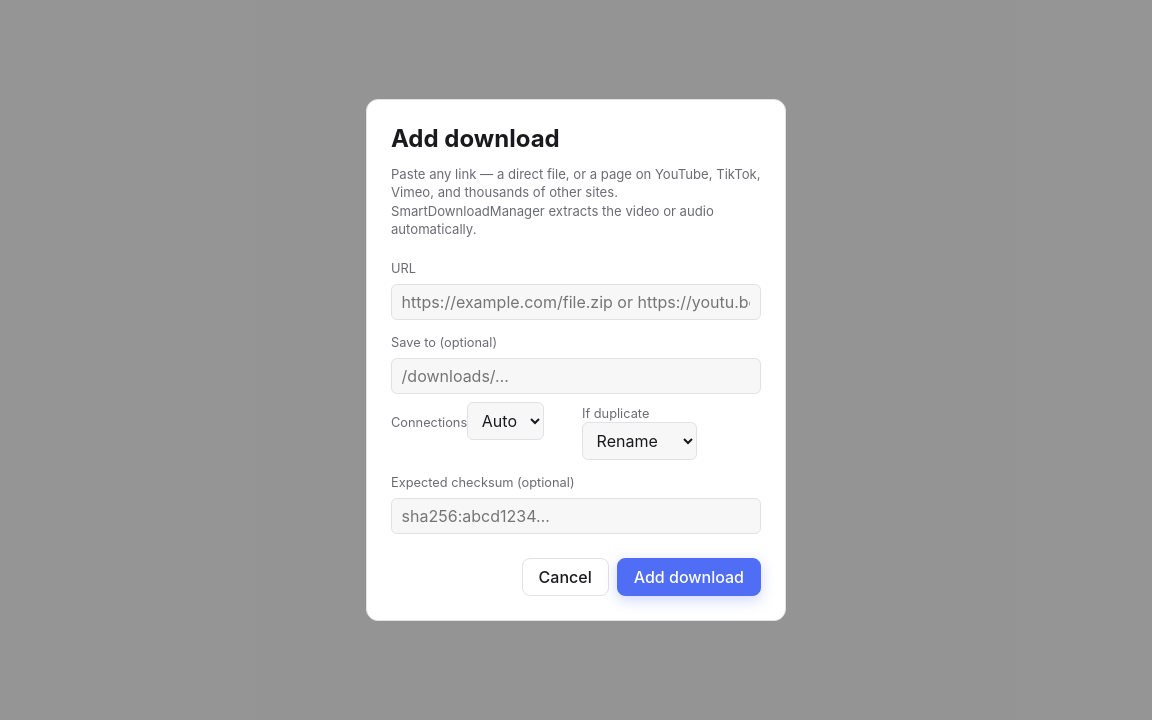
Test: AddDownloadDialog › surfaces a backend error instead of closing
This screenshot has width=1152, height=720.
Step 1. Type "https://example.com/movie.mkv" into the field with placeholder "https://example.com/file.zip or https://youtu.be/…" → (576, 302), box [391,284,761,320]
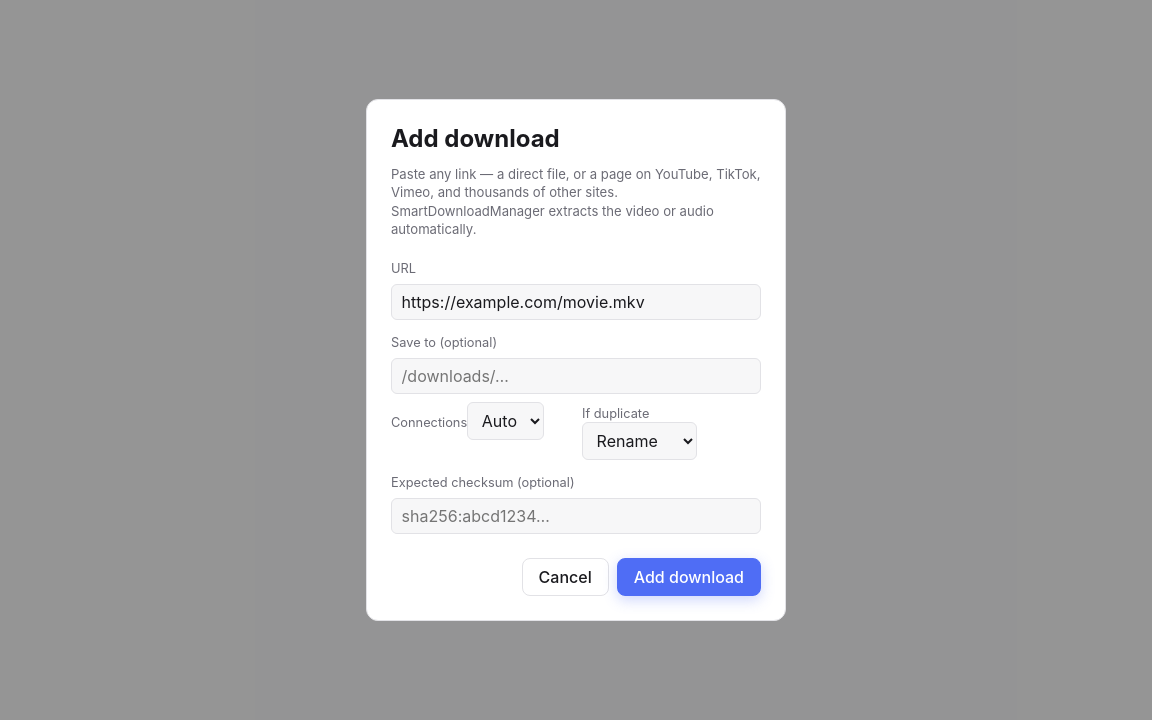
Step 2. Click the button "Add download" → (689, 577), box [617,558,761,596]
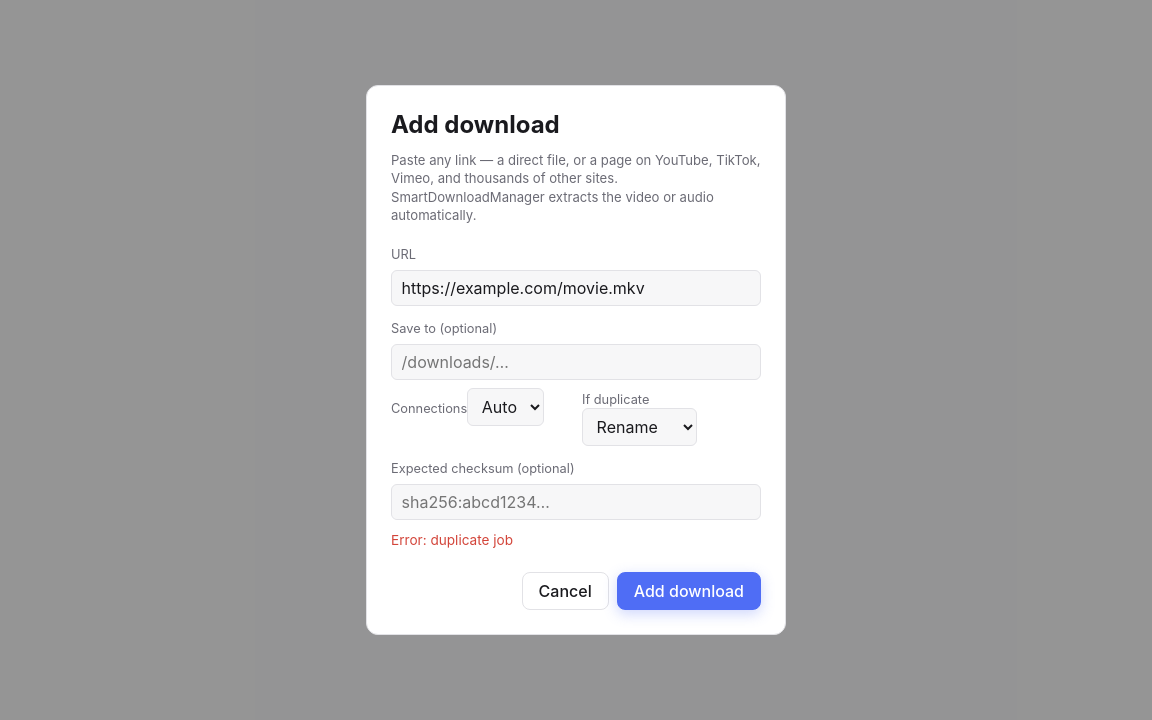
Check: the message shows "duplicate job", box [391,532,513,548]
